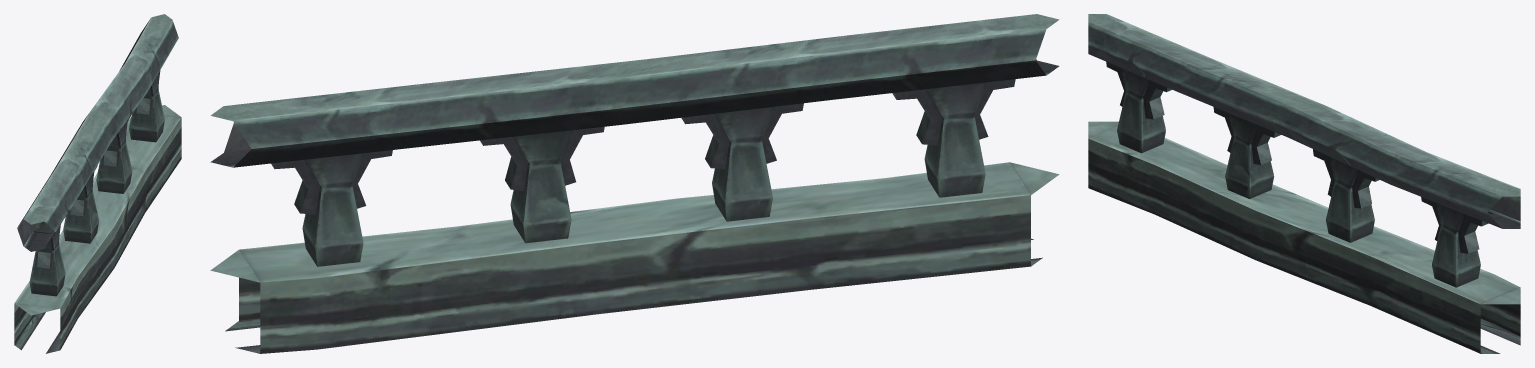
Rendered from crypt_railing_diagnol_01.fbx.
3 views of the same model, side by side, from view 1: azimuth 30°, elevation 25°; view 2: azimuth 150°, elevation 25°; view 3: azimuth 270°, elevation 25° (orthographic). The views are drawn at different scales.
Parts seen in each view (by area): view 1: crypt_railing_diagnol_01-0; view 2: crypt_railing_diagnol_01-0; view 3: crypt_railing_diagnol_01-0.
Boxes of the visible parts, left/top/right/bottom form: crypt_railing_diagnol_01-0: left=14, top=14, right=181, bottom=353; crypt_railing_diagnol_01-0: left=210, top=14, right=1059, bottom=353; crypt_railing_diagnol_01-0: left=1088, top=14, right=1520, bottom=353.
Size of the model in its own units: 4 by 1.6 by 4.
